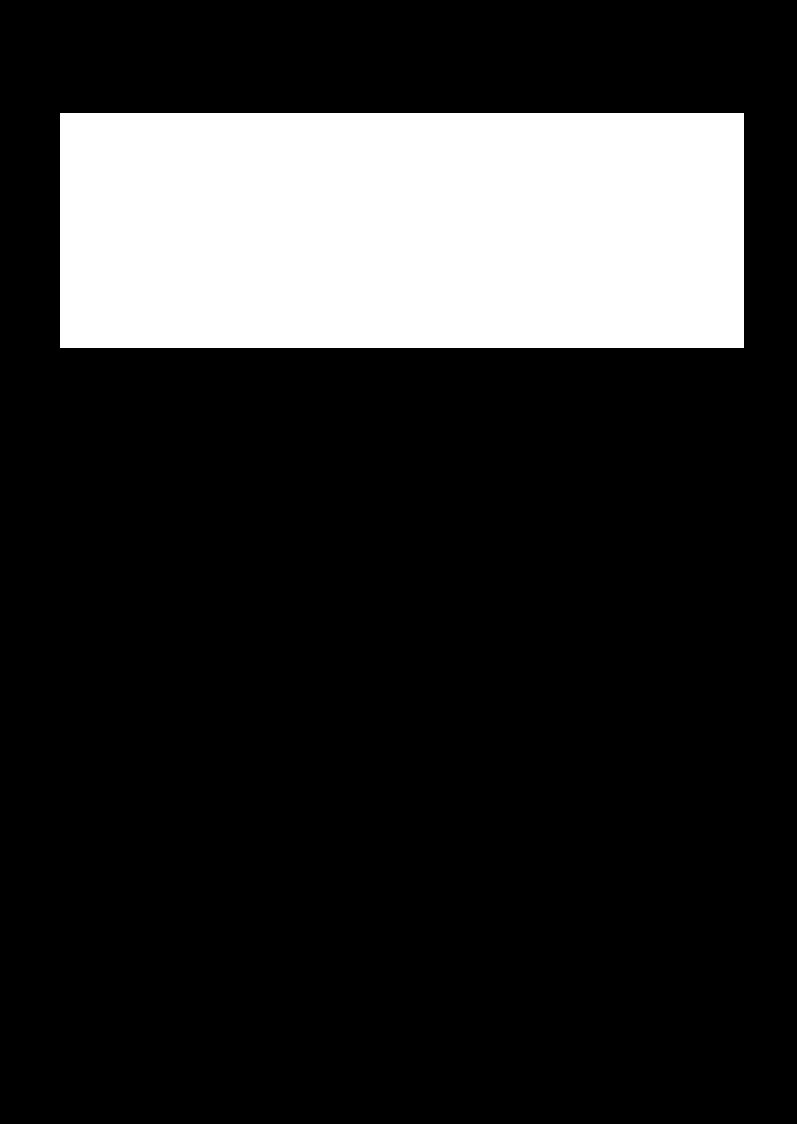table: (60, 113, 743, 347)
